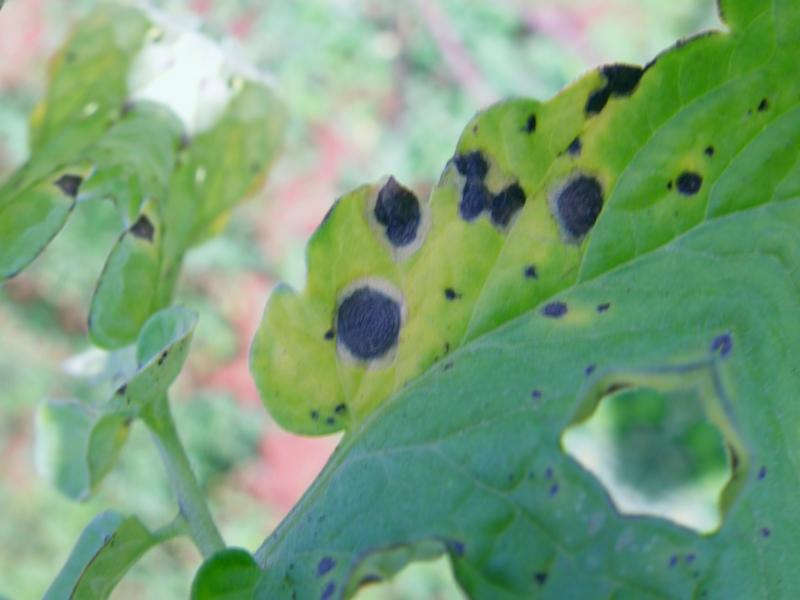Tomato Early blight leaf: (94, 0, 800, 600), (66, 190, 211, 362)
